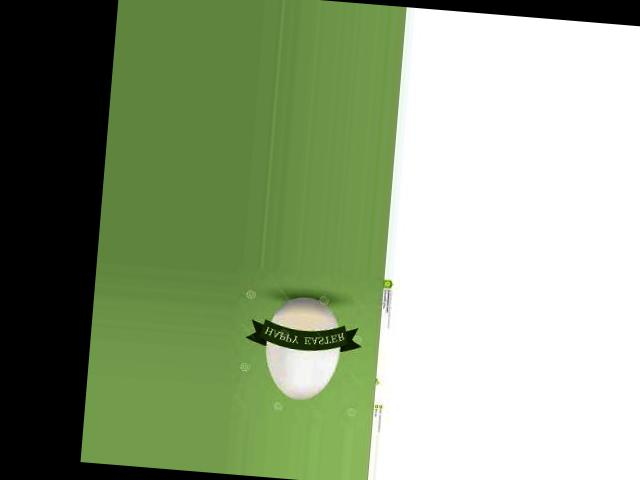egg: (262, 294, 345, 402)
